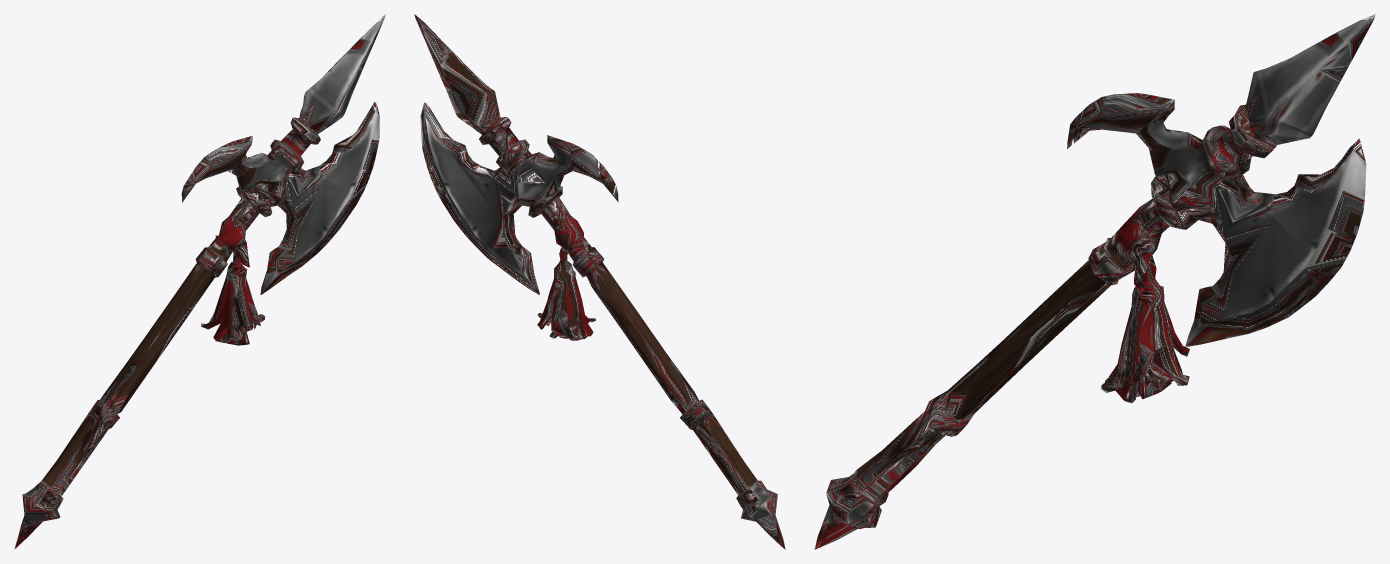
The model's file is w_halberd.glb.
3 views of the same model, side by side, from view 1: azimuth 30°, elevation 25°; view 2: azimuth 150°, elevation 25°; view 3: azimuth 330°, elevation 25° (orthographic). The views are drawn at different scales.
Size of the model in its own units: 0.8749 by 1 by 0.1296.
1 material, 1 textured.
